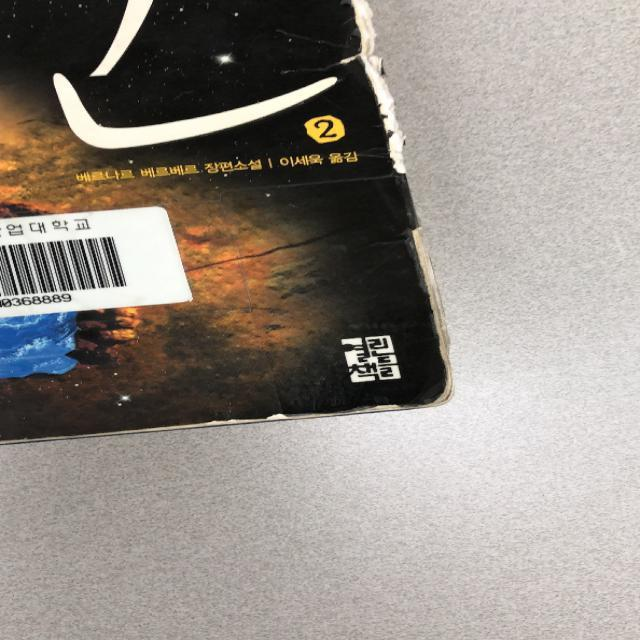Ripped: (337, 0, 411, 175)
Wornout: (0, 412, 339, 447), (404, 226, 452, 366), (342, 366, 458, 419)
